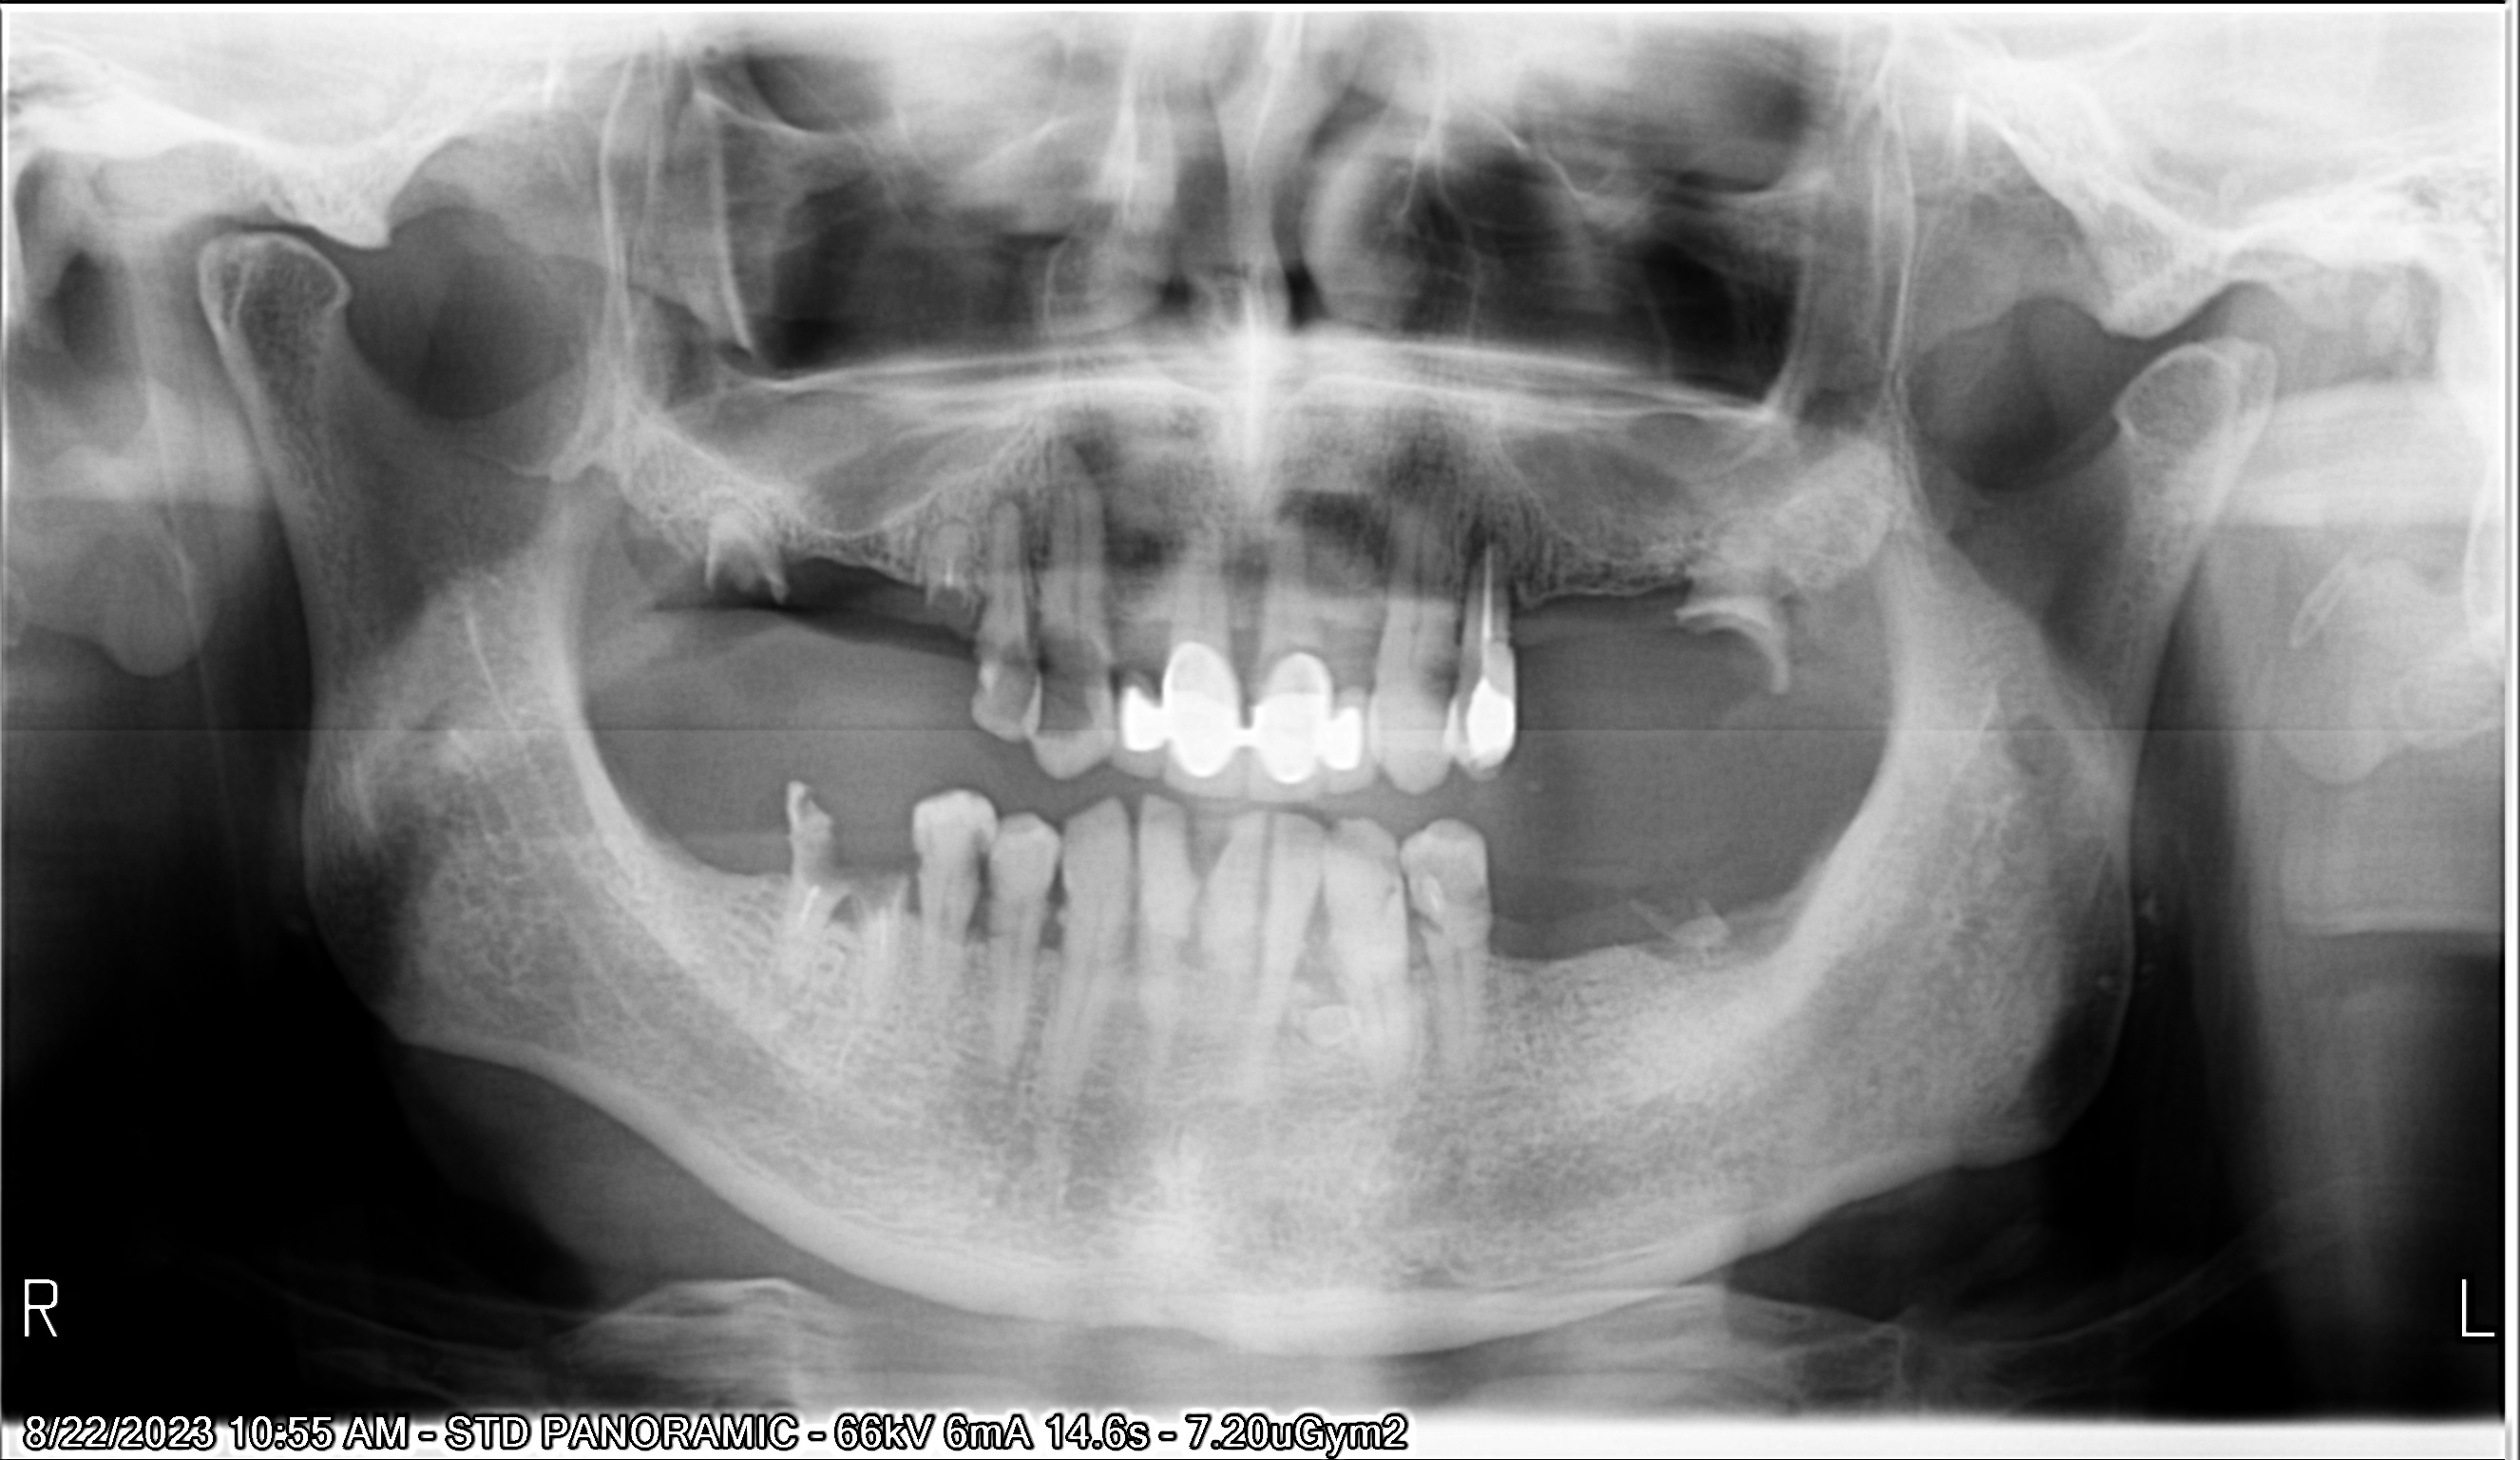API: (698, 219, 2206, 789), (462, 210, 1497, 737)
BON: (674, 424, 2110, 1408), (623, 407, 1976, 1408), (568, 407, 1778, 1396), (531, 410, 1681, 1389), (481, 405, 1565, 1373), (722, 238, 2265, 876), (450, 408, 1443, 1382)
CAR: (684, 431, 2136, 1375), (776, 256, 2520, 942), (679, 292, 2141, 1006), (597, 290, 1935, 968), (450, 377, 1447, 1267), (332, 323, 1244, 1246), (479, 256, 1586, 999), (450, 264, 1502, 991)
END: (710, 209, 2216, 876)
FUR: (368, 422, 1250, 1366)
OBT: (689, 243, 2218, 1027)
PRR: (401, 238, 1785, 1038)
ROT: (731, 388, 2478, 1352), (394, 191, 1388, 817), (292, 182, 1077, 793)
